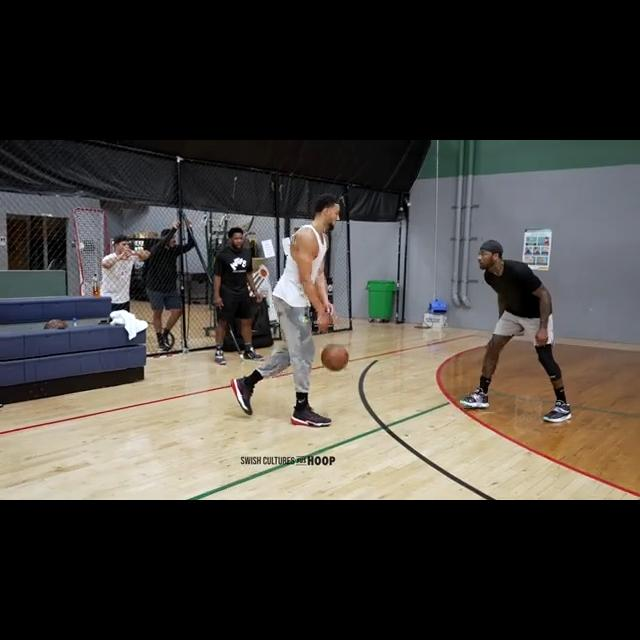basketball: (321, 343, 350, 373)
